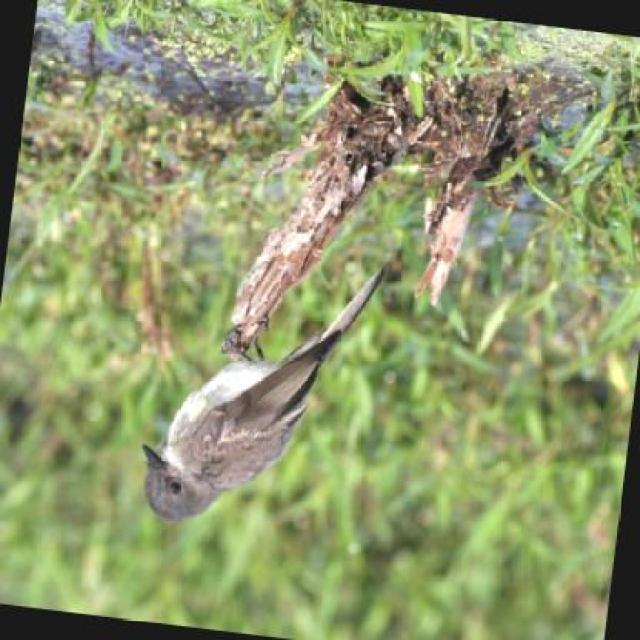Bird: (139, 259, 390, 526)
